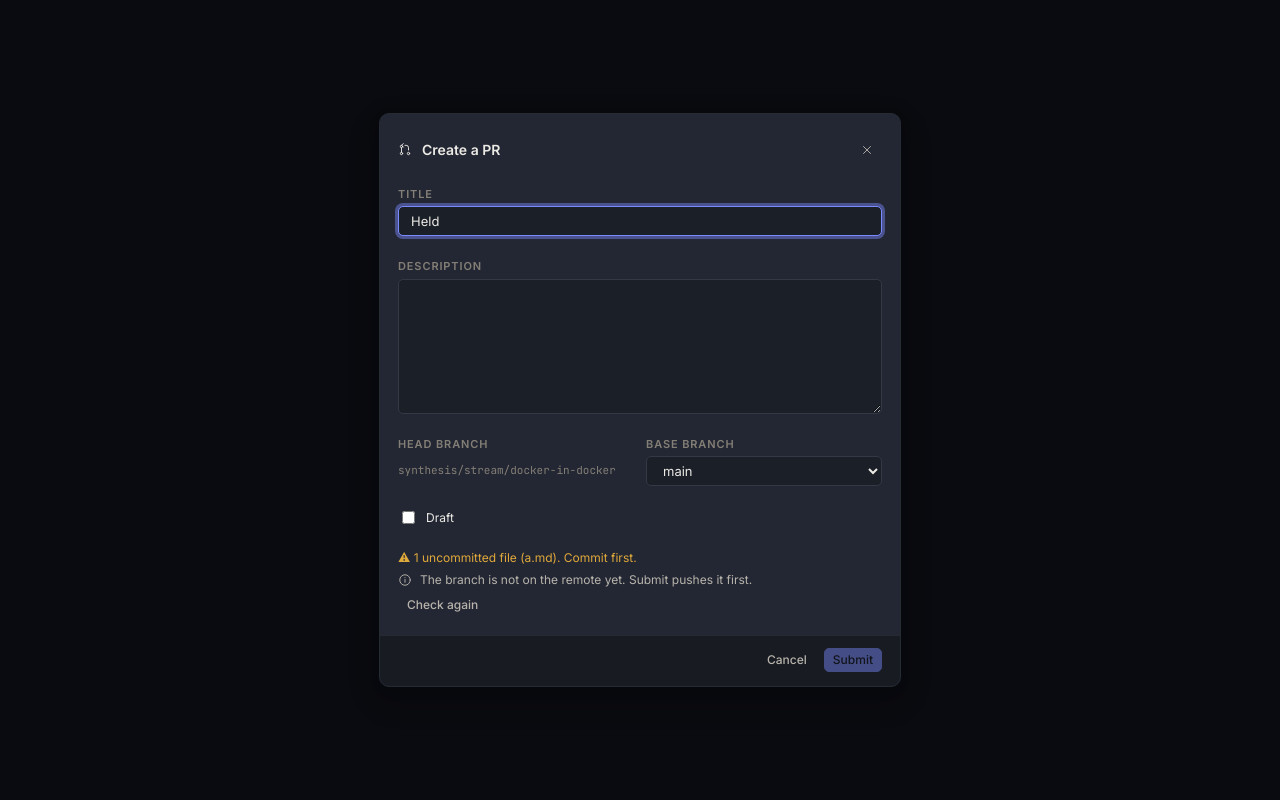
Scenario: a window that is gone or blocked (CPR-FR-XMRL, CPR-FR-HGXL, CPR-FR-VZUZ) › CPR-FR-VZUZ, CPR-FR-HGXL: a resume does not submit while a block stands
Expected: the text "⚠ 1 uncommitted file (a.md). Commit first." is shown, [398,549,637,567]
Expected: the button with test id "create-pr-submit" is disabled, [824,648,882,672]
Click the button with test id "create-pr-recheck": (443, 605) [398,593,487,617]
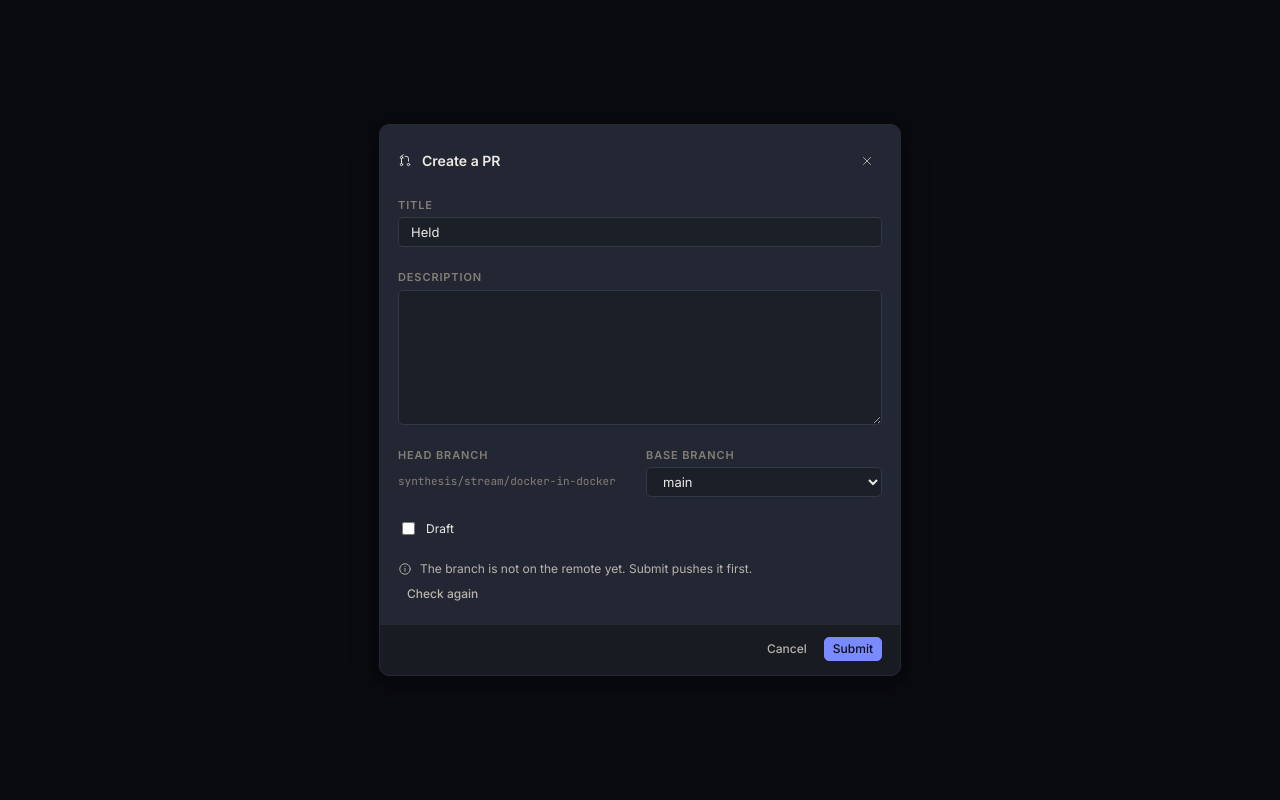
Expected: the button with test id "create-pr-submit" is enabled, [824,637,882,661]
